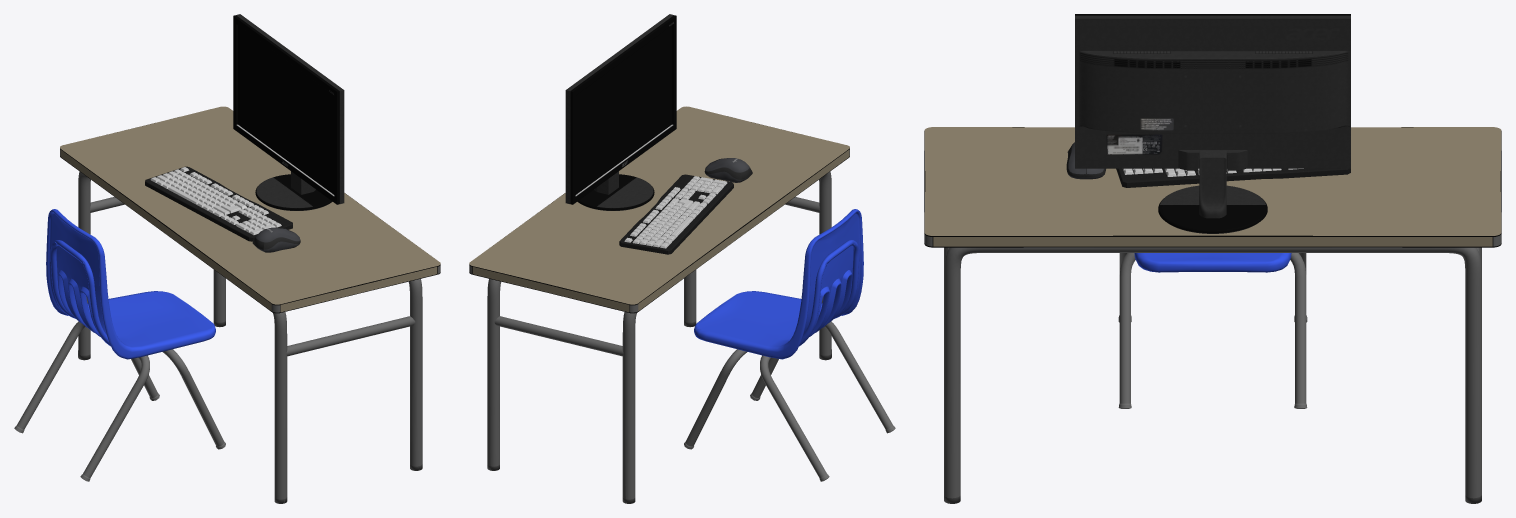
File: classs things.fbx
The picture shows the model from 3 angles, left to right: view 1: azimuth 30°, elevation 25°; view 2: azimuth 150°, elevation 25°; view 3: azimuth 270°, elevation 25°; orthographic projection. The views are drawn at different scales.
Parts seen in each view (by area): view 1: Cube_004_0, polySurface2, schoolChair, NurbsPath_006_2, Keys, Keyboard_Body, NurbsPath_007_3, Cube_005_4, SM_mouseBody_L; view 2: Cube_004_0, polySurface2, schoolChair, NurbsPath_006_2, Keys, Keyboard_Body, NurbsPath_007_3, Cube_005_4, SM_mouseBody_L; view 3: Cube_004_0, polySurface2, NurbsPath_006_2, schoolChair, Cube_005_4, Keyboard_Body, Keys.
Boxes of the visible parts, x1,y1,x2,y2 form: Cube_004_0: [60, 106, 440, 312]; polySurface2: [233, 14, 344, 210]; schoolChair: [14, 209, 225, 481]; NurbsPath_006_2: [78, 171, 422, 499]; Keys: [150, 167, 281, 235]; Keyboard_Body: [145, 166, 292, 241]; NurbsPath_007_3: [89, 197, 415, 356]; Cube_005_4: [60, 148, 440, 313]; SM_mouseBody_L: [252, 227, 300, 252]; Cube_004_0: [469, 106, 849, 312]; polySurface2: [565, 14, 676, 210]; schoolChair: [684, 209, 895, 481]; NurbsPath_006_2: [487, 171, 831, 499]; Keys: [624, 176, 727, 248]; Keyboard_Body: [619, 174, 733, 254]; NurbsPath_007_3: [494, 197, 820, 356]; Cube_005_4: [469, 148, 849, 313]; SM_mouseBody_L: [704, 158, 752, 182]; Cube_004_0: [924, 127, 1501, 246]; polySurface2: [1075, 14, 1350, 233]; NurbsPath_006_2: [944, 247, 1481, 498]; schoolChair: [1118, 253, 1307, 408]; Cube_005_4: [924, 127, 1501, 247]; Keyboard_Body: [1116, 168, 1350, 187]; Keys: [1123, 168, 1303, 176].
Bounding box in the file's own units: 343 × 401 × 451.
